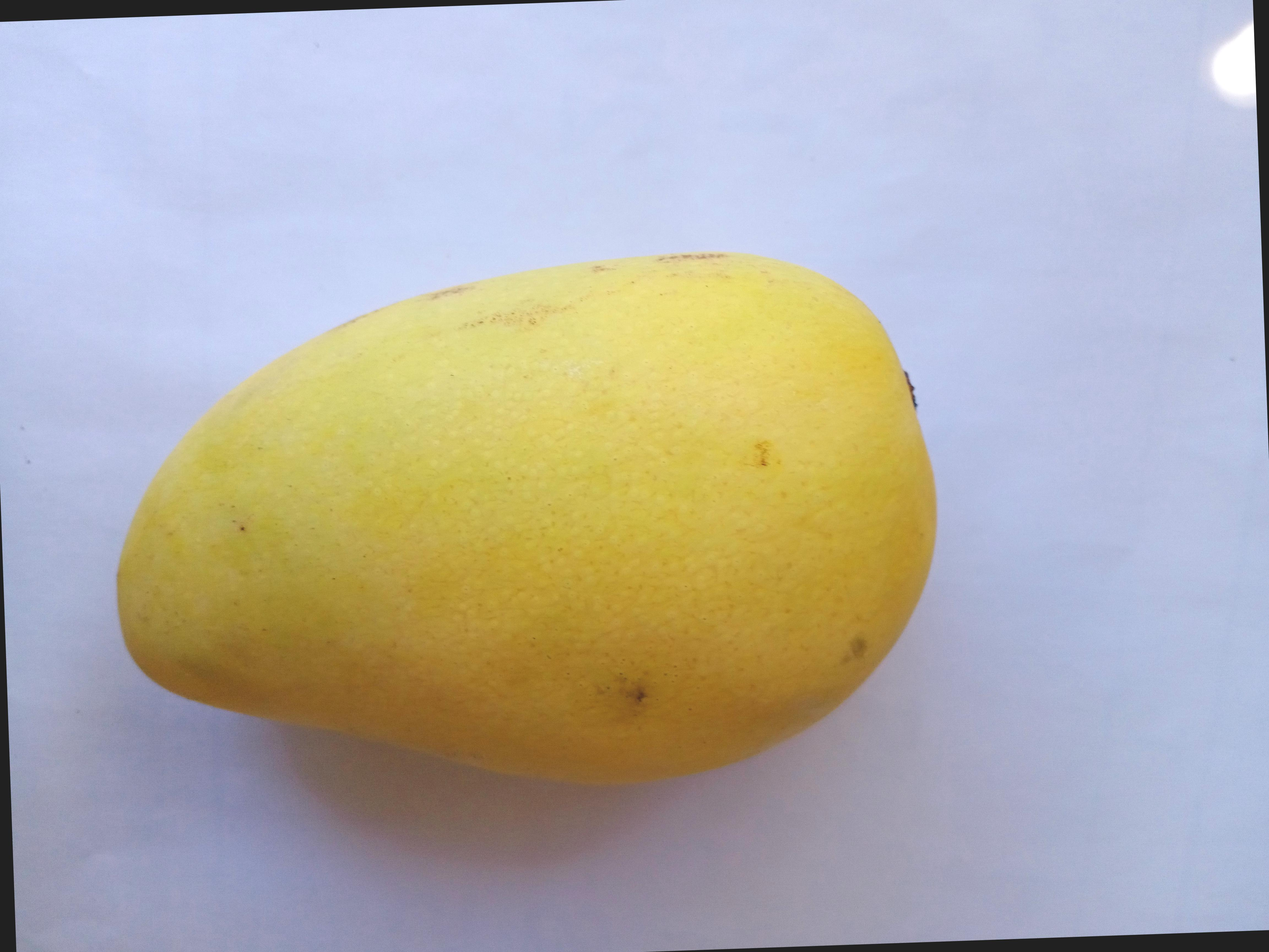Mango Ripe: (59, 211, 1003, 881)
